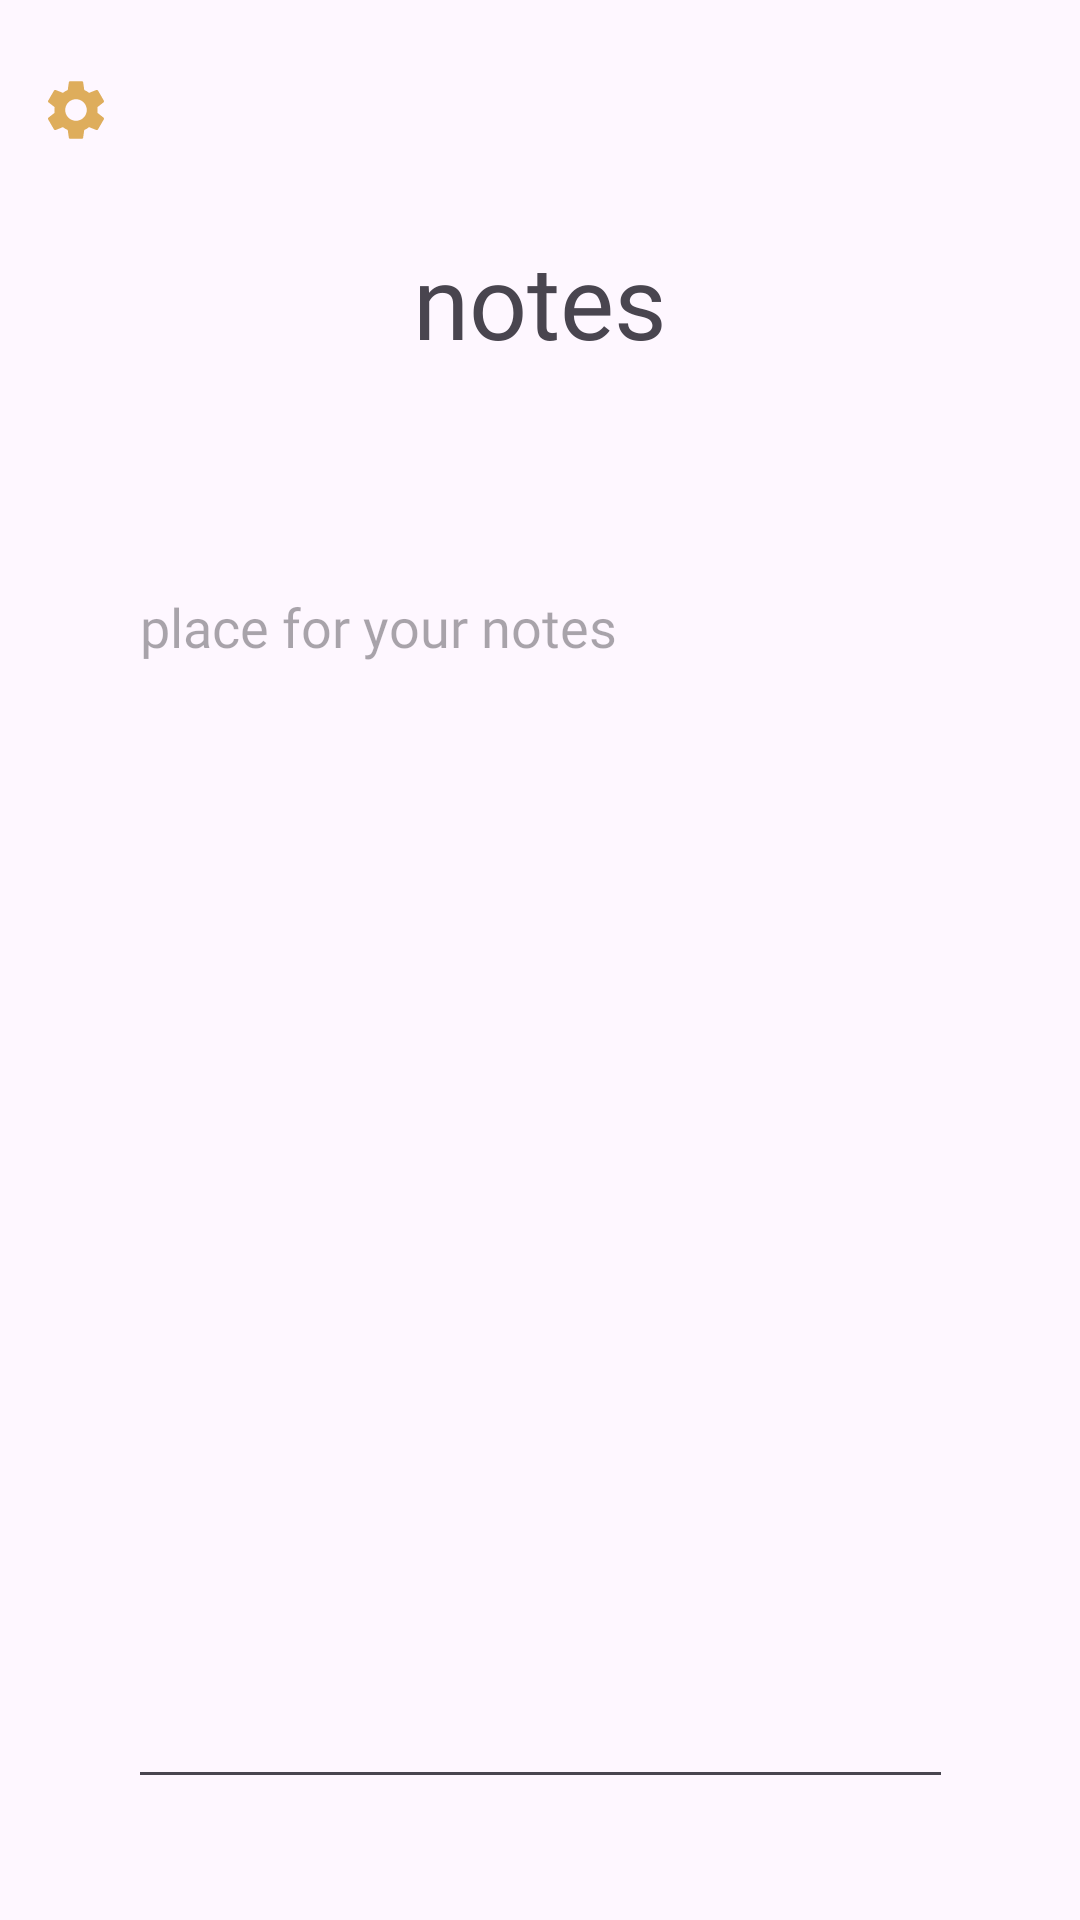

Icon click points for this 1080*1920 phone screenshot, format [x,y]:
settings: [76,110]
